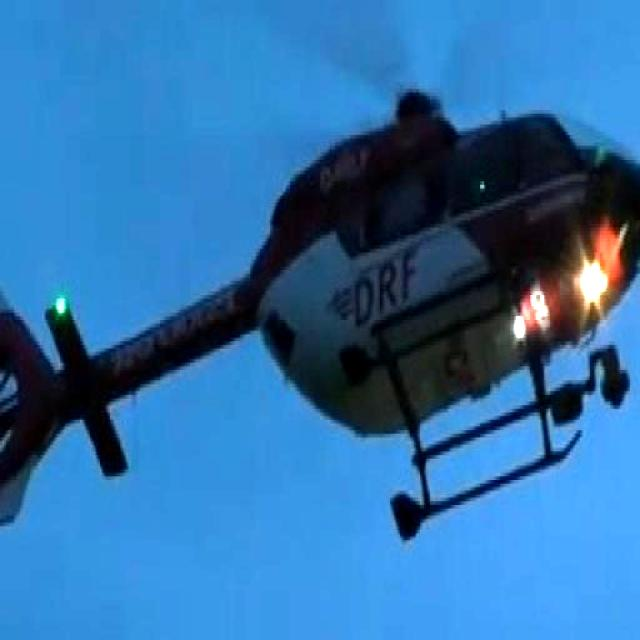drone: (0, 78, 640, 542)
